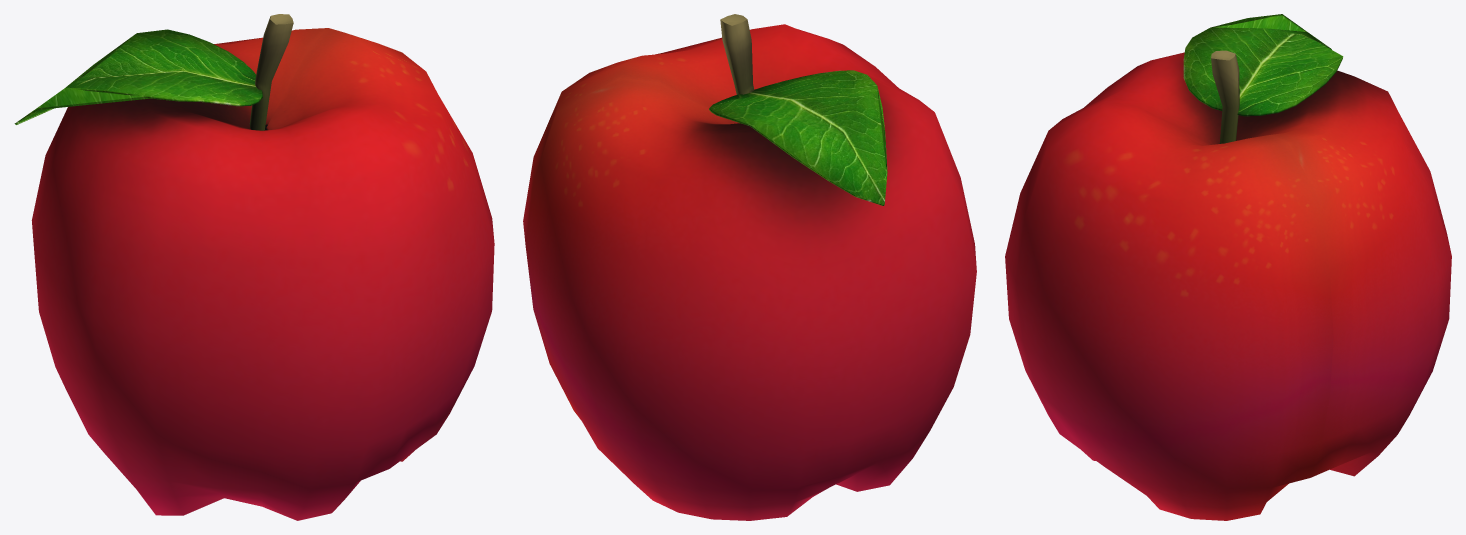
The model's file is apple.fbx.
3 views of the same model, side by side, from view 1: azimuth 30°, elevation 25°; view 2: azimuth 150°, elevation 25°; view 3: azimuth 270°, elevation 25° (orthographic). The views are drawn at different scales.
Visible parts, largest first — view 1: Sphere; view 2: Sphere; view 3: Sphere.
Boxes of the visible parts, box(x1,y1,x2,y2) form: Sphere: box(14, 14, 494, 520); Sphere: box(523, 14, 976, 520); Sphere: box(1005, 14, 1451, 520).
Bounding box in the file's own units: 194 × 204 × 195.
